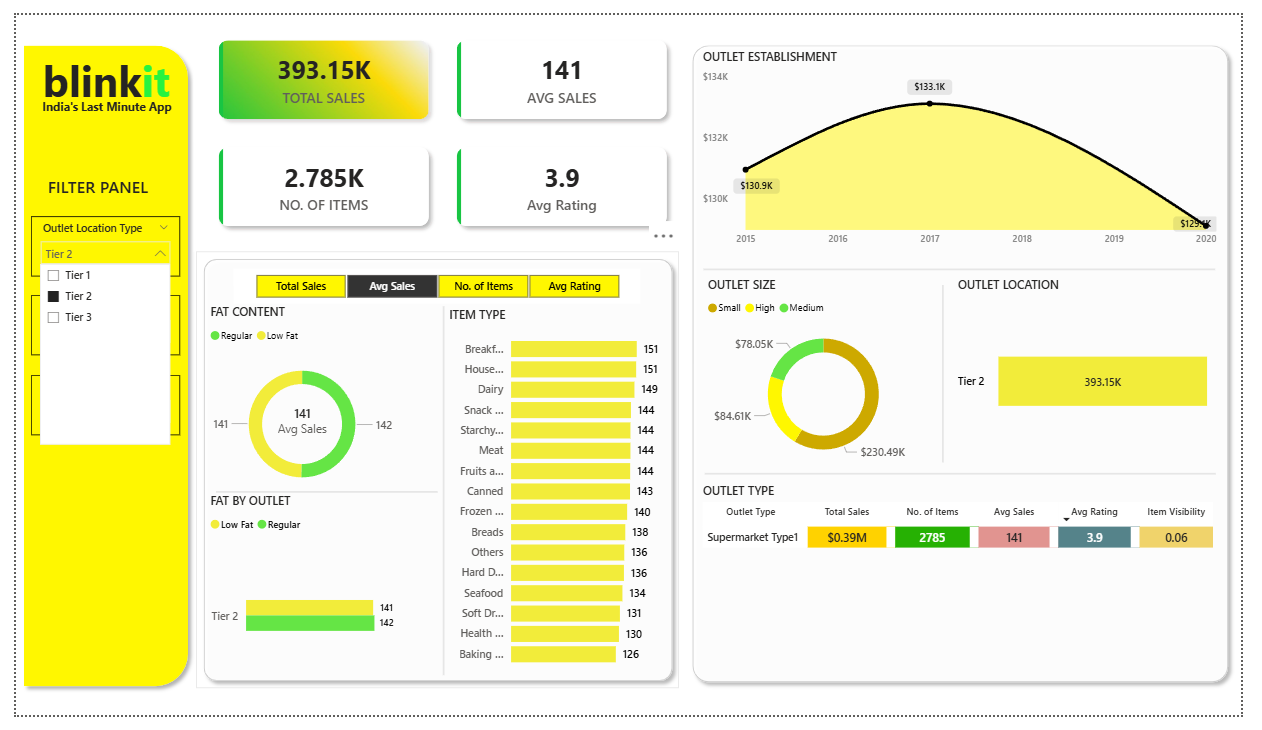

What the dashboard file says about the page in this screenshot:
{"tool":"powerbi","page":{"name":"Page 1","canvas":[1400,800],"ordinal":0},"visuals":[{"type":"shape","box":[0,25.5,205.6,750.4],"z":0},{"type":"textbox","box":[22.5,90.1,162.1,30],"z":1000},{"type":"textbox","box":[4.5,37.5,198.1,82.5],"z":2000},{"type":"cardVisual","fields":{"Data":["BlinkIT Grocery Data.Total Sales","BlinkIT Grocery Data.Avg Sales","BlinkIT Grocery Data.No. of Items","BlinkIT Grocery Data.Avg Rating"]},"box":[203.3,0,570,270],"z":3000},{"type":"shape","box":[205,270,553.3,500],"z":4000},{"type":"slicer","fields":{"Values":["Matrics.Matrics"]},"box":[248.3,290,465,40],"z":5000},{"type":"donutChart","title":"FAT CONTENT","fields":{"Y":["BlinkIT Grocery Data.Avg Sales"],"Category":["BlinkIT Grocery Data.Item Fat Content"]},"box":[216.7,330,220,230],"z":6000},{"type":"cardVisual","fields":{"Data":["BlinkIT Grocery Data.Avg Sales"]},"box":[245,425,163.3,75],"z":7000},{"type":"clusteredBarChart","title":"FAT BY OUTLET","fields":{"Y":["BlinkIT Grocery Data.Avg Sales"],"Category":["BlinkIT Grocery Data.Outlet Location Type"],"Series":["BlinkIT Grocery Data.Item Fat Content"]},"box":[216.7,545,220,230],"z":8000},{"type":"shape","box":[228.3,410,253.3,270],"z":9000},{"type":"shape","box":[353.3,333.3,271.7,421.7],"z":10000},{"type":"barChart","title":"ITEM TYPE","fields":{"Y":["BlinkIT Grocery Data.Avg Sales"],"Category":["BlinkIT Grocery Data.Item Type"]},"box":[490,333.3,251.7,421.7],"z":11000},{"type":"shape","box":[764.3,25.7,630,745.7],"z":12000},{"type":"lineChart","title":"OUTLET ESTABLISHMENT","fields":{"Category":["BlinkIT Grocery Data.Outlet Establishment Year"],"Y":["BlinkIT Grocery Data.Total Sales"]},"box":[780,38.6,597.1,234.3],"z":13000},{"type":"shape","box":[785,155,585,270],"z":14000},{"type":"donutChart","title":"OUTLET SIZE","fields":{"Y":["BlinkIT Grocery Data.Total Sales"],"Category":["BlinkIT Grocery Data.Outlet Size"]},"box":[785.7,298.6,274.3,224.3],"z":15000},{"type":"funnel","title":"OUTLET LOCATION","fields":{"Y":["Sum(BlinkIT Grocery Data.Sales)"],"Category":["BlinkIT Grocery Data.Outlet Location Type"]},"box":[1071.4,298.6,300,221.4],"z":16000},{"type":"shape","box":[922.9,308.6,272.9,202.9],"z":17000},{"type":"pivotTable","title":"OUTLET TYPE","fields":{"Rows":["BlinkIT Grocery Data.Outlet Type"],"Values":["BlinkIT Grocery Data.Total Sales","BlinkIT Grocery Data.No. of Items","BlinkIT Grocery Data.Avg Sales","BlinkIT Grocery Data.Avg Rating","Avg(BlinkIT Grocery Data.Item Visibility)"]},"box":[780,534.3,597.1,192.9],"z":18000},{"type":"shape","box":[787.1,388.6,584.3,271.4],"z":19000},{"type":"slicer","fields":{"Values":["BlinkIT Grocery Data.Outlet Location Type"]},"box":[17.1,230,170,68.6],"z":20000},{"type":"slicer","fields":{"Values":["BlinkIT Grocery Data.Outlet Size"]},"box":[17.1,320,170,68.6],"z":20001},{"type":"slicer","fields":{"Values":["BlinkIT Grocery Data.Item Type"]},"box":[17.1,411.4,170,68.6],"z":20002},{"type":"textbox","box":[31.4,178.6,142.9,38.6],"z":20003}]}

Visuals, with their boxes in screenshot pixels (x1, y1, x2, y2), scaled from the page's 1400x800 canvas onto the 1262x730 screenshot:
shape: left=0, top=23, right=185, bottom=708
textbox: left=20, top=82, right=166, bottom=110
textbox: left=4, top=34, right=183, bottom=110
cardVisual - BlinkIT Grocery Data.Total Sales x BlinkIT Grocery Data.Avg Sales: left=183, top=0, right=697, bottom=246
shape: left=185, top=246, right=684, bottom=703
slicer - Matrics.Matrics: left=224, top=265, right=643, bottom=301
"FAT CONTENT" donutChart: left=195, top=301, right=394, bottom=511
cardVisual - BlinkIT Grocery Data.Avg Sales: left=221, top=388, right=368, bottom=456
"FAT BY OUTLET" clusteredBarChart: left=195, top=497, right=394, bottom=707
shape: left=206, top=374, right=434, bottom=620
shape: left=318, top=304, right=563, bottom=689
"ITEM TYPE" barChart: left=442, top=304, right=669, bottom=689
shape: left=689, top=23, right=1257, bottom=704
"OUTLET ESTABLISHMENT" lineChart: left=703, top=35, right=1241, bottom=249
shape: left=708, top=141, right=1235, bottom=388
"OUTLET SIZE" donutChart: left=708, top=272, right=956, bottom=477
"OUTLET LOCATION" funnel: left=966, top=272, right=1236, bottom=474
shape: left=832, top=282, right=1078, bottom=467
"OUTLET TYPE" pivotTable: left=703, top=488, right=1241, bottom=664
shape: left=710, top=355, right=1236, bottom=602
slicer - BlinkIT Grocery Data.Outlet Location Type: left=15, top=210, right=169, bottom=272
slicer - BlinkIT Grocery Data.Outlet Size: left=15, top=292, right=169, bottom=355
slicer - BlinkIT Grocery Data.Item Type: left=15, top=375, right=169, bottom=438
textbox: left=28, top=163, right=157, bottom=198
